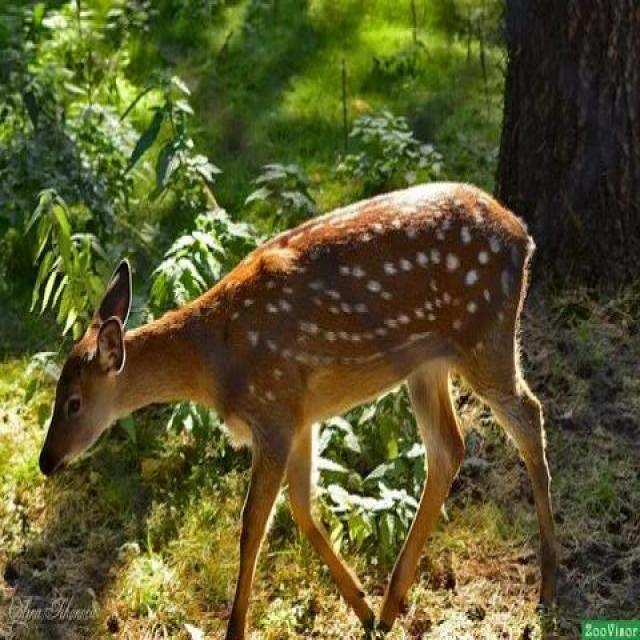deer: (9, 158, 576, 623)
